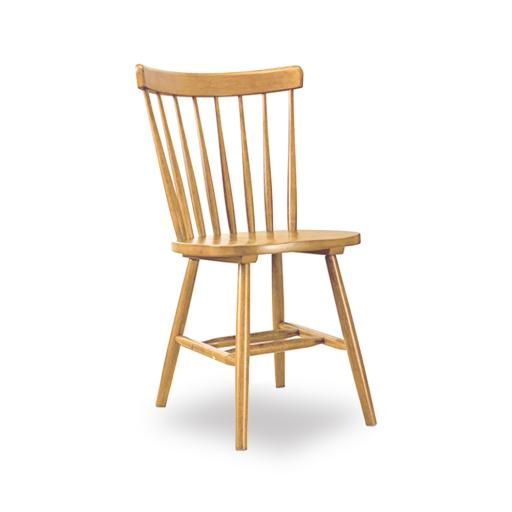chair: (124, 56, 383, 456)
